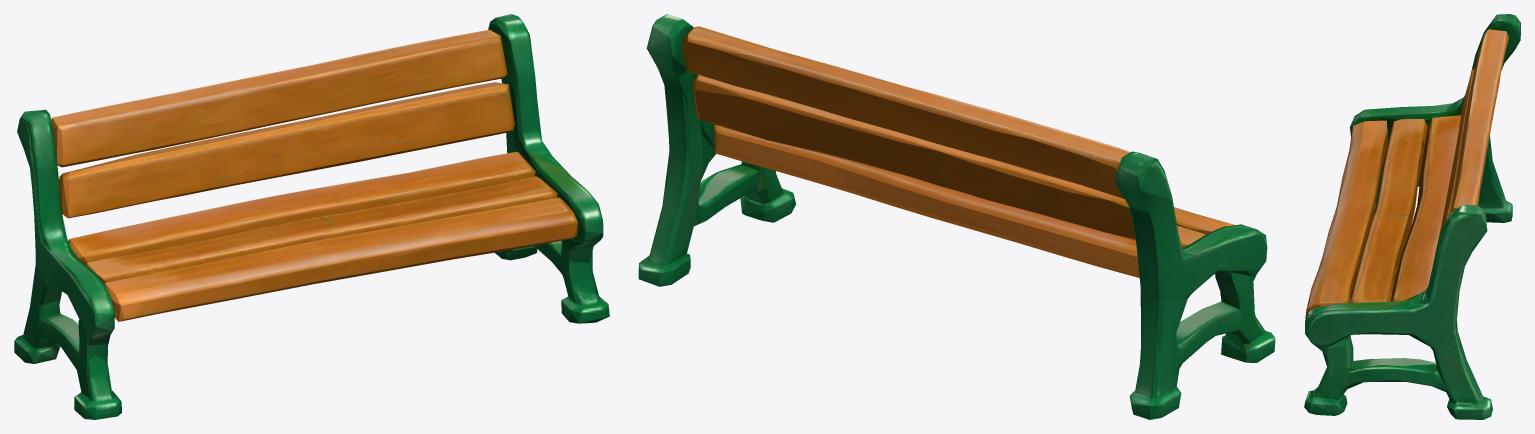
File: bench.glb
3 views of the same model, side by side, from view 1: azimuth 30°, elevation 25°; view 2: azimuth 150°, elevation 25°; view 3: azimuth 270°, elevation 25° (orthographic). The views are drawn at different scales.
Parts seen in each view (by area): view 1: model; view 2: model; view 3: model.
Boxes of the visible parts, x1,y1,x2,y2 form: model: (14,14,609,419); model: (638,14,1275,419); model: (1304,14,1520,419).
Size of the model in its own units: 1.89 by 0.8419 by 0.8031.
1 material, 1 textured.
